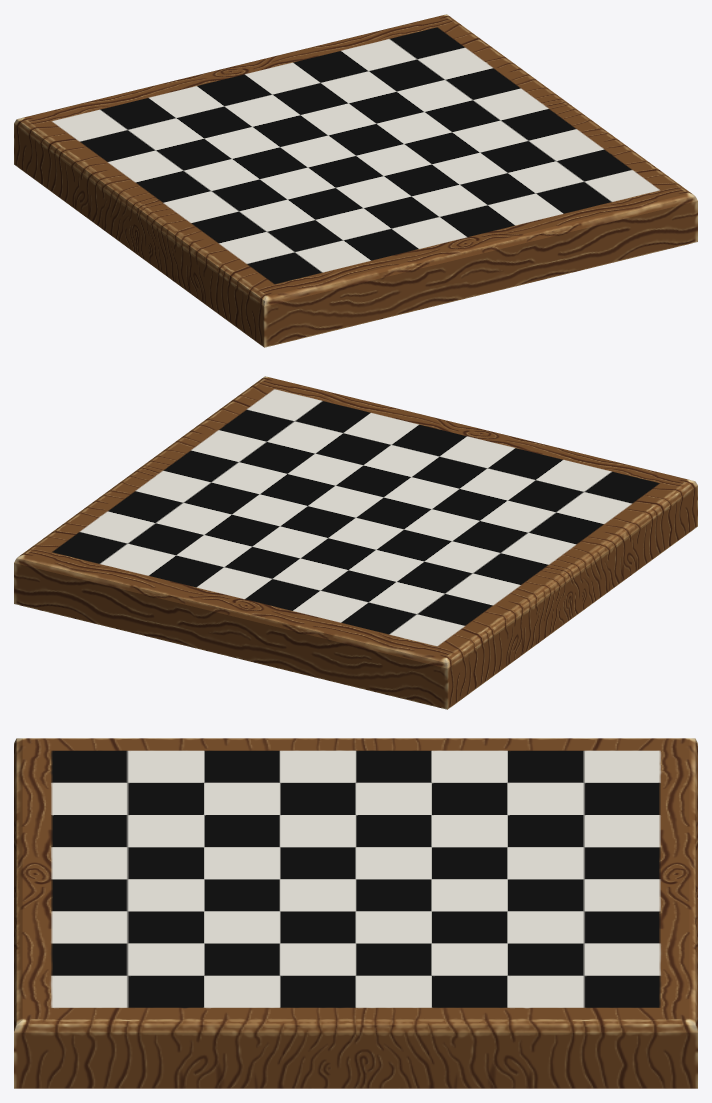
Rendered from chessboard.glb.
3 views of the same model, one above another, from view 1: azimuth 30°, elevation 25°; view 2: azimuth 150°, elevation 25°; view 3: azimuth 270°, elevation 25° (orthographic). The views are drawn at different scales.
Parts seen in each view (by area): view 1: chessboard; view 2: chessboard; view 3: chessboard.
Boxes of the visible parts, x1,y1,x2,y2 form: chessboard: (14, 14, 697, 347); chessboard: (14, 376, 697, 709); chessboard: (14, 738, 697, 1088).
Bounding box in the file's own units: 0.594 × 0.0621 × 0.594.
Materials: 1 (1 with a texture image).
